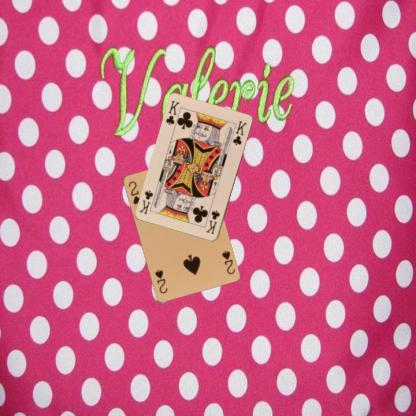2s: (219, 248, 236, 275), (126, 179, 142, 206)
Kc: (163, 98, 181, 127), (204, 208, 222, 236)
